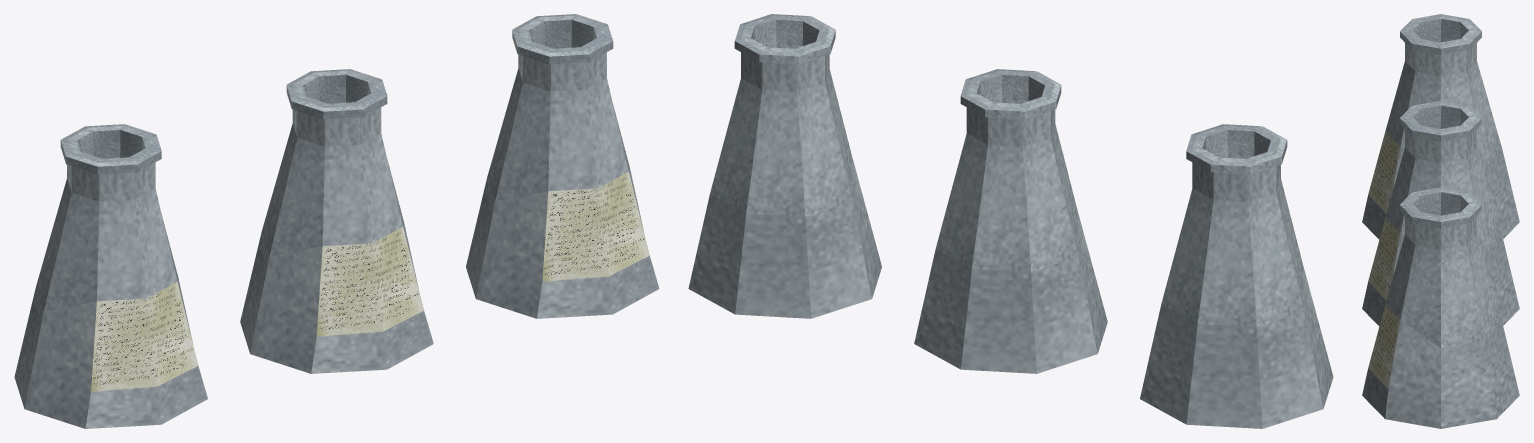
File: NewFlasks.fbx
The picture shows the model from 3 angles, left to right: view 1: azimuth 30°, elevation 25°; view 2: azimuth 150°, elevation 25°; view 3: azimuth 270°, elevation 25°; orthographic projection. The views are drawn at different scales.
Visible parts, largest first — view 1: FlaskEmpty, FlaskAcid, FlaskDegreaser; view 2: FlaskEmpty, FlaskAcid, FlaskDegreaser; view 3: FlaskDegreaser, FlaskAcid, FlaskEmpty.
Boxes of the visible parts, bbox=[...] form: FlaskEmpty: bbox=[240, 69, 433, 373]; FlaskAcid: bbox=[14, 124, 207, 428]; FlaskDegreaser: bbox=[466, 14, 659, 318]; FlaskEmpty: bbox=[914, 69, 1107, 373]; FlaskAcid: bbox=[1140, 124, 1333, 428]; FlaskDegreaser: bbox=[688, 14, 881, 318]; FlaskDegreaser: bbox=[1362, 187, 1519, 428]; FlaskAcid: bbox=[1362, 14, 1519, 239]; FlaskEmpty: bbox=[1362, 100, 1519, 326].
Size of the model in its own units: 2.77 by 1.03 by 0.7694.
